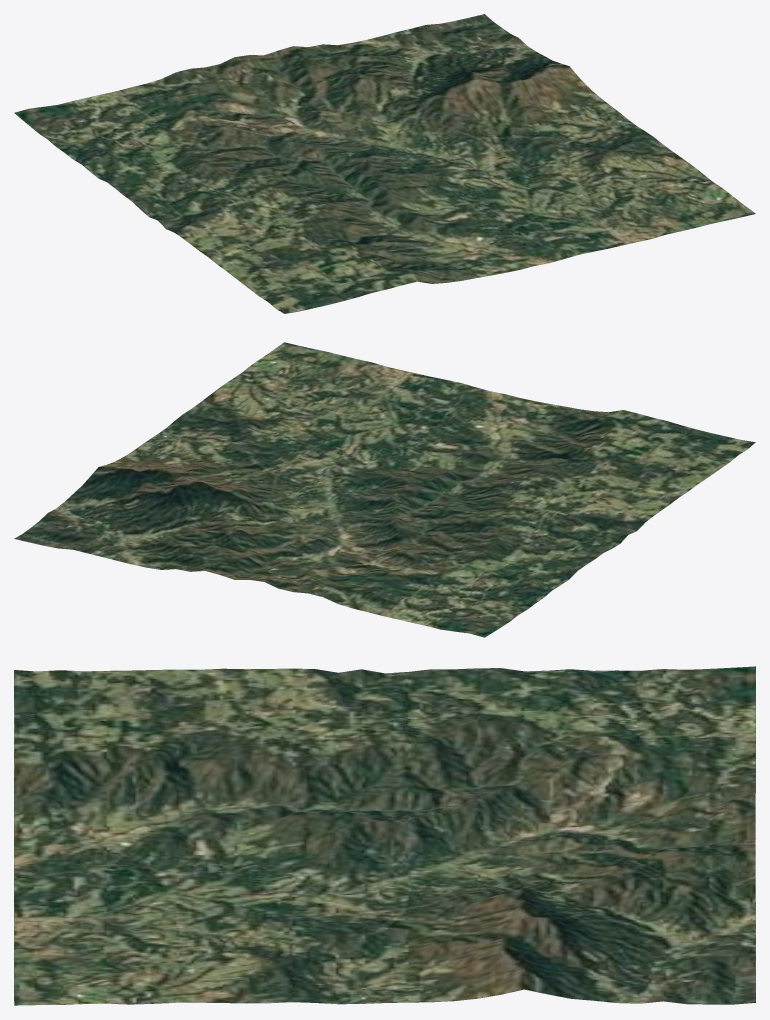
3 renders of one model, top to bottom at view 1: azimuth 30°, elevation 25°; view 2: azimuth 150°, elevation 25°; view 3: azimuth 270°, elevation 25°, orthographic. The views are drawn at different scales.
Size of the model in its own units: 15644 by 687 by 15566.
Materials: 1 (1 with a texture image).
